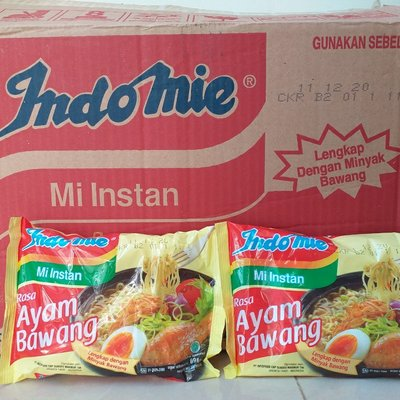indomie ayam bawang: (5, 211, 229, 381), (223, 219, 399, 387)
